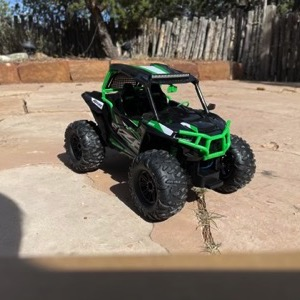polaris: (64, 62, 257, 225)
